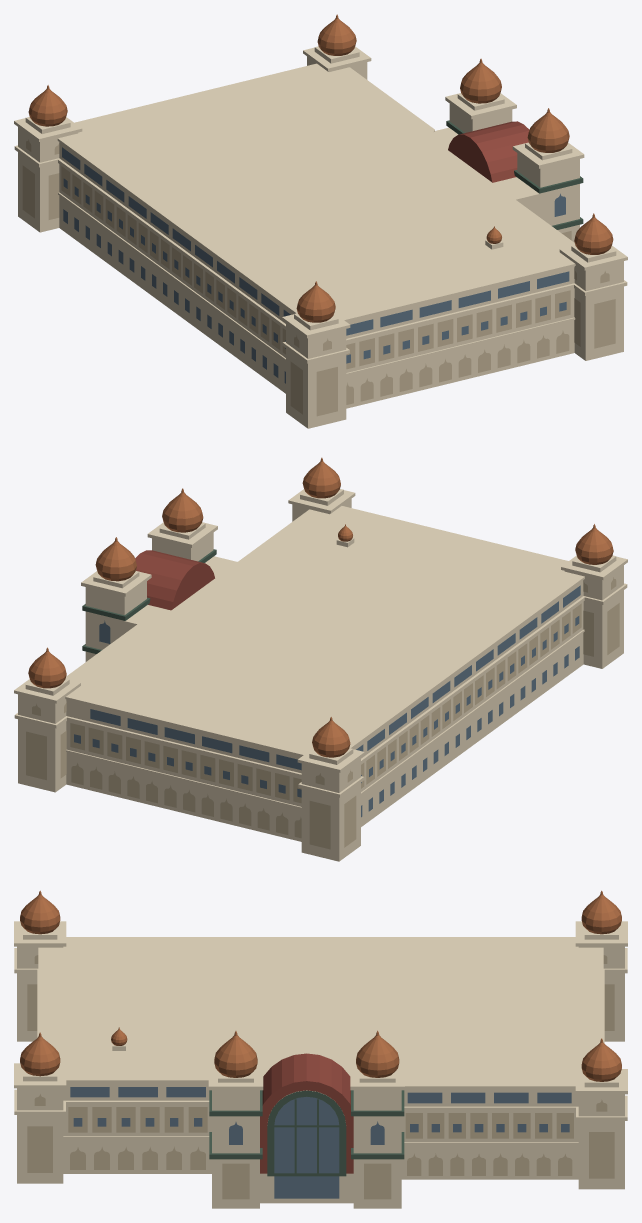
The model's file is slc-saltair.glb.
3 renders of one model, top to bottom at view 1: azimuth 30°, elevation 25°; view 2: azimuth 150°, elevation 25°; view 3: azimuth 270°, elevation 25°, orthographic. The views are drawn at different scales.
Parts seen in each view (by area): view 1: Saltair; view 2: Saltair; view 3: Saltair.
Boxes of the visible parts, x1,y1,x2,y2 form: Saltair: (14, 14, 627, 428); Saltair: (14, 457, 627, 861); Saltair: (14, 890, 627, 1208).
Size of the model in its own units: 52.15 by 21.6 by 71.5.
